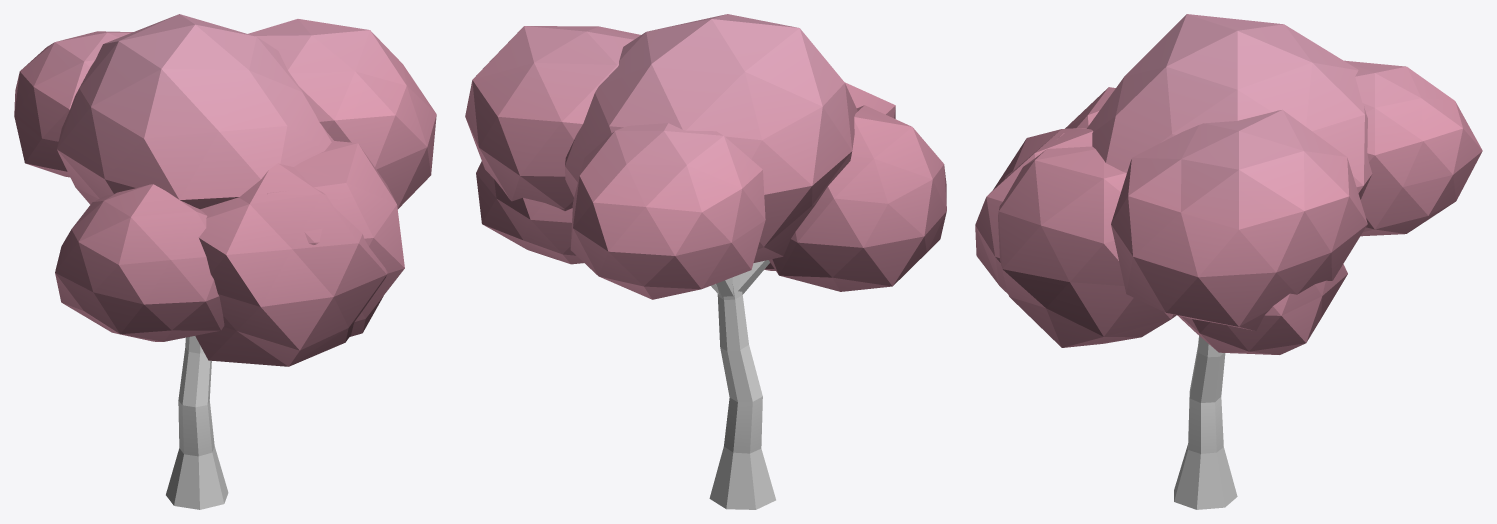
The model's file is tree_blossom.glb.
The picture shows the model from 3 angles, left to right: view 1: azimuth 30°, elevation 25°; view 2: azimuth 150°, elevation 25°; view 3: azimuth 270°, elevation 25°; orthographic projection. The views are drawn at different scales.
Parts seen in each view (by area): view 1: Canopy_deco, Trunk; view 2: Canopy_deco, Trunk; view 3: Canopy_deco, Trunk.
Part boxes in pixels (x1,y1,x2,y2): Canopy_deco: (14,14,436,366); Trunk: (166,336,228,509); Canopy_deco: (465,14,946,299); Trunk: (709,260,775,509); Canopy_deco: (975,14,1482,354); Trunk: (1174,336,1237,509).
Bounding box in the file's own units: 6.29 × 7 × 6.81.
